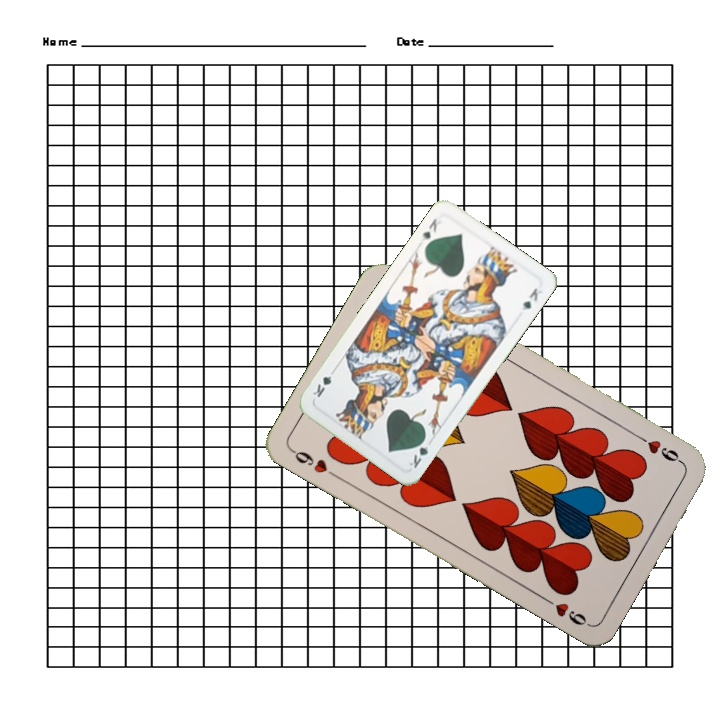GK: (405, 433, 433, 471), (417, 214, 440, 245)
H9: (631, 430, 685, 466), (287, 445, 340, 481)
